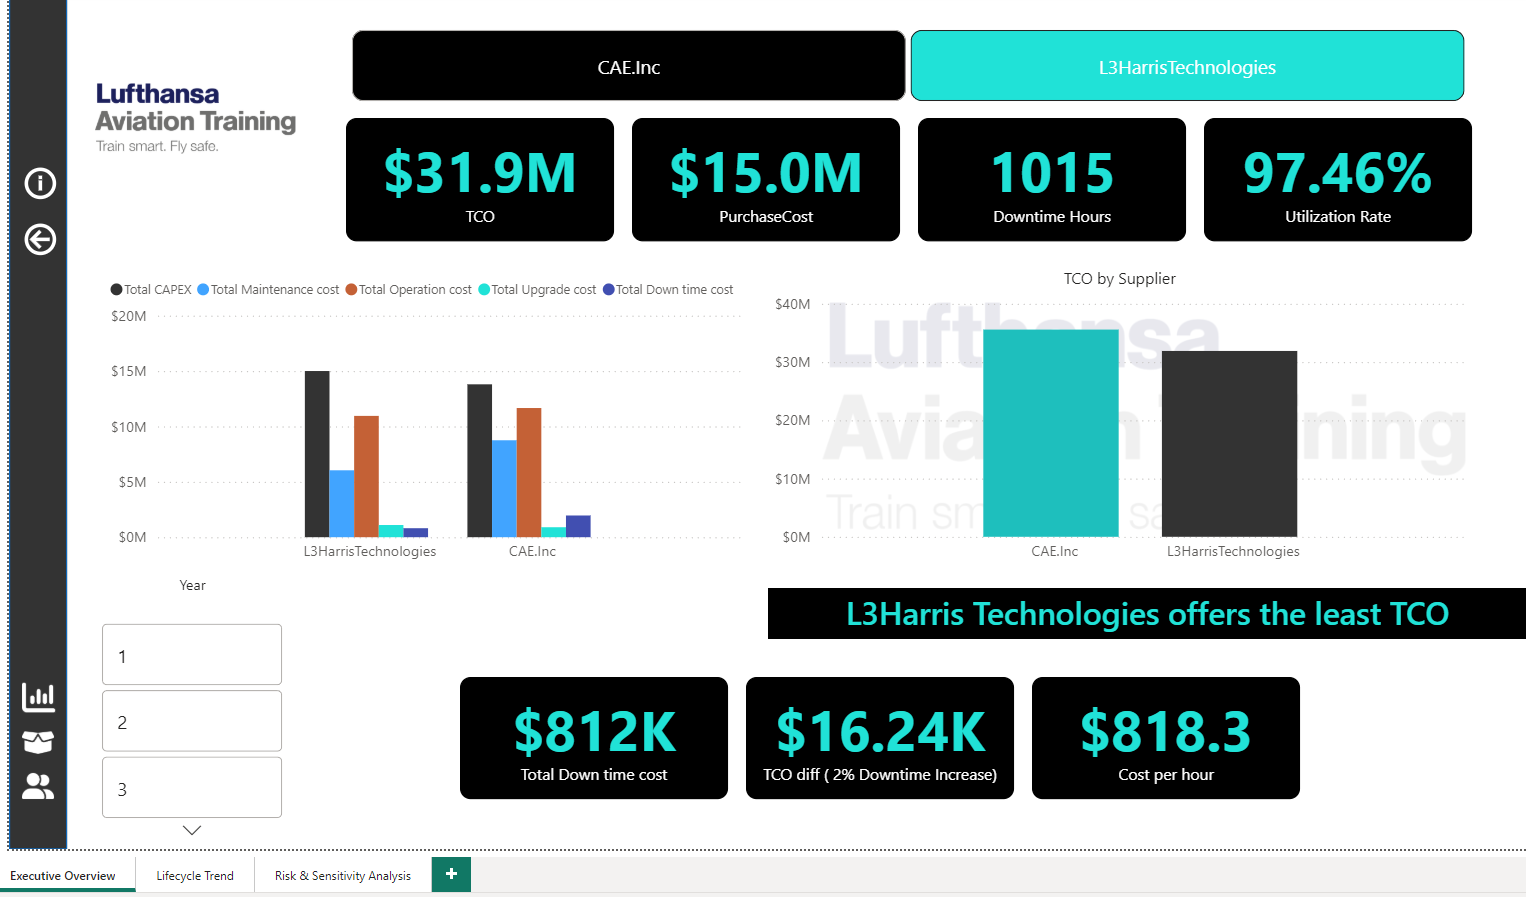

Layout of this report page (visuals, bound fields, positions):
{"tool":"powerbi","page":{"name":"Executive Overview","canvas":[1280,720],"ordinal":0},"visuals":[{"type":"card","title":"Total Cost of Ownership","fields":{"Values":["Sum(Annual_cost.PurchaseCost)"]},"box":[525.3,103.6,226.2,103.6],"z":0},{"type":"card","title":"Total Cost of Ownership","fields":{"Values":["Year.Total downtime Hours"]},"box":[766.3,103.6,226.2,103.6],"z":1000},{"type":"card","title":"Total Cost of Ownership","fields":{"Values":["Year.Utilization Rate"]},"box":[1007.3,103.6,226.2,103.6],"z":2000},{"type":"card","title":"Total Cost of Ownership","fields":{"Values":["Year.TCO"]},"box":[284.3,103.6,226.2,103.6],"z":3000},{"type":"advancedSlicerVisual","title":"Suppliers","fields":{"Values":["Supplier_data.Supplier_name"]},"box":[284.3,24.3,949.2,70.8],"z":4000},{"type":"image","box":[72.6,66.2,169.2,74.5],"z":5000},{"type":"columnChart","title":"TCO by Supplier ","fields":{"Y":["Year.TCO"],"Series":["Supplier_data.Supplier_name"],"Category":["Supplier_data.Supplier_name"]},"box":[640,229,593.1,257.5],"z":6000},{"type":"card","fields":{"Values":["Year.Best Buy"]},"box":[640,500.2,640,43.2],"z":7000},{"type":"advancedSlicerVisual","fields":{"Values":["Year.Year"]},"box":[72.9,489.4,162.8,230.4],"z":8000},{"type":"shape","box":[0,0,49.1,720.4],"z":9000},{"type":"clusteredColumnChart","fields":{"Category":["Supplier_data.Supplier_name"],"Y":["Year.Total CAPEX","Year.Total Maintenance cost","Year.Total Operation cost","Year.Total Upgrade cost","Year.Total Down time cost"]},"box":[80,229,544.4,257.5],"z":10000},{"type":"card","fields":{"Values":["Year.Total Down time cost"]},"box":[380.5,575,226.2,102.5],"z":11000},{"type":"card","fields":{"Values":["Annual_cost.TCO diff (2% Downtime Increase)"]},"box":[621.5,575,226.2,102.5],"z":12000},{"type":"card","fields":{"Values":["Year.Cost per hour"]},"box":[862.5,575,226.2,102.5],"z":13000},{"type":"actionButton","box":[8.7,140.4,93.2,36],"z":14000},{"type":"actionButton","box":[8.7,187.7,93.2,36],"z":15000},{"type":"image","box":[11.1,575.8,27.6,33.1],"z":17000},{"type":"image","box":[11.4,613.5,27,33],"z":18000},{"type":"image","box":[11.1,651.1,27.5,32.8],"z":19000}]}

Visuals, with their boxes on the page's 1280x720 design canvas (x1, y1, x2, y2). These are canvas units, not pixel positions in the 1526x897 screenshot, which may show the page scaled, cropped or inside an application window:
"Total Cost of Ownership" card: locate(525, 104, 752, 207)
"Total Cost of Ownership" card: locate(766, 104, 992, 207)
"Total Cost of Ownership" card: locate(1007, 104, 1234, 207)
"Total Cost of Ownership" card: locate(284, 104, 510, 207)
"Suppliers" advancedSlicerVisual: locate(284, 24, 1234, 95)
image: locate(73, 66, 242, 141)
"TCO by Supplier " columnChart: locate(640, 229, 1233, 486)
card - Year.Best Buy: locate(640, 500, 1280, 543)
advancedSlicerVisual - Year.Year: locate(73, 489, 236, 720)
shape: locate(0, 0, 49, 720)
clusteredColumnChart - Supplier_data.Supplier_name x Year.Total CAPEX: locate(80, 229, 624, 486)
card - Year.Total Down time cost: locate(380, 575, 607, 678)
card - Annual_cost.TCO diff (2% Downtime Increase): locate(622, 575, 848, 678)
card - Year.Cost per hour: locate(862, 575, 1089, 678)
actionButton: locate(9, 140, 102, 176)
actionButton: locate(9, 188, 102, 224)
image: locate(11, 576, 39, 609)
image: locate(11, 614, 38, 646)
image: locate(11, 651, 39, 684)
